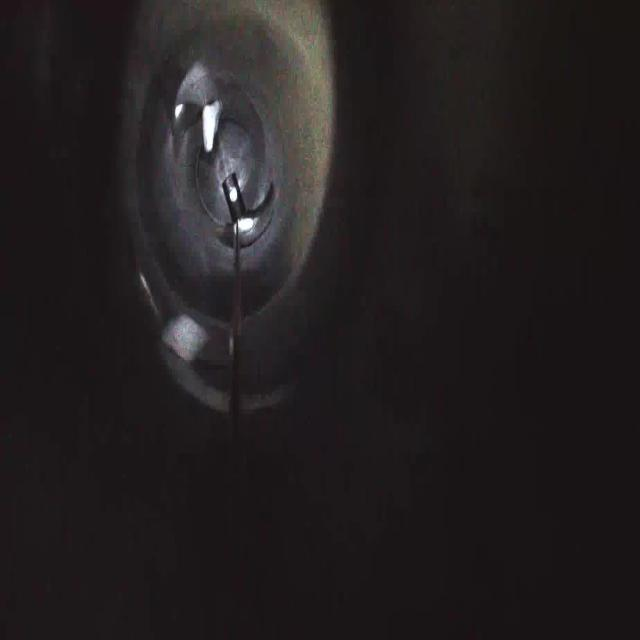impurity: (199, 92, 226, 156)
